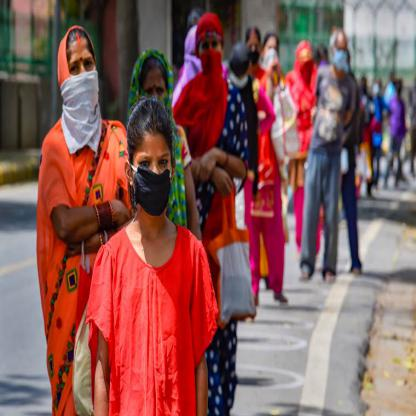Wearing_Mask: (60, 31, 104, 128), (129, 121, 174, 210), (199, 18, 224, 82), (329, 27, 349, 81), (264, 32, 283, 77), (245, 27, 260, 67)
